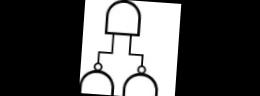nand: (100, 0, 144, 39), (120, 59, 162, 96), (79, 59, 117, 95)
